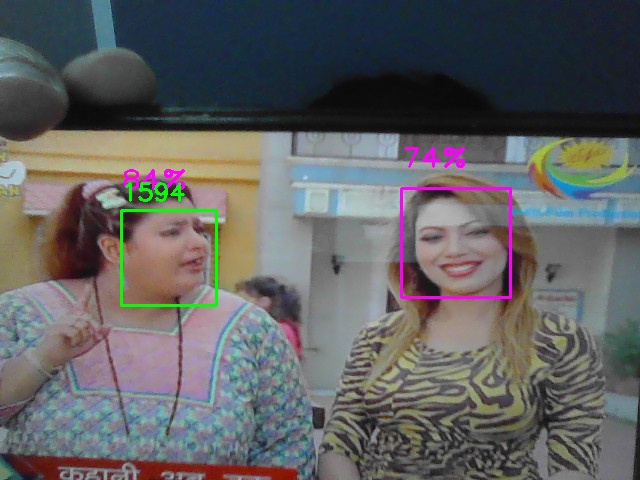fake: (121, 210, 217, 306)
